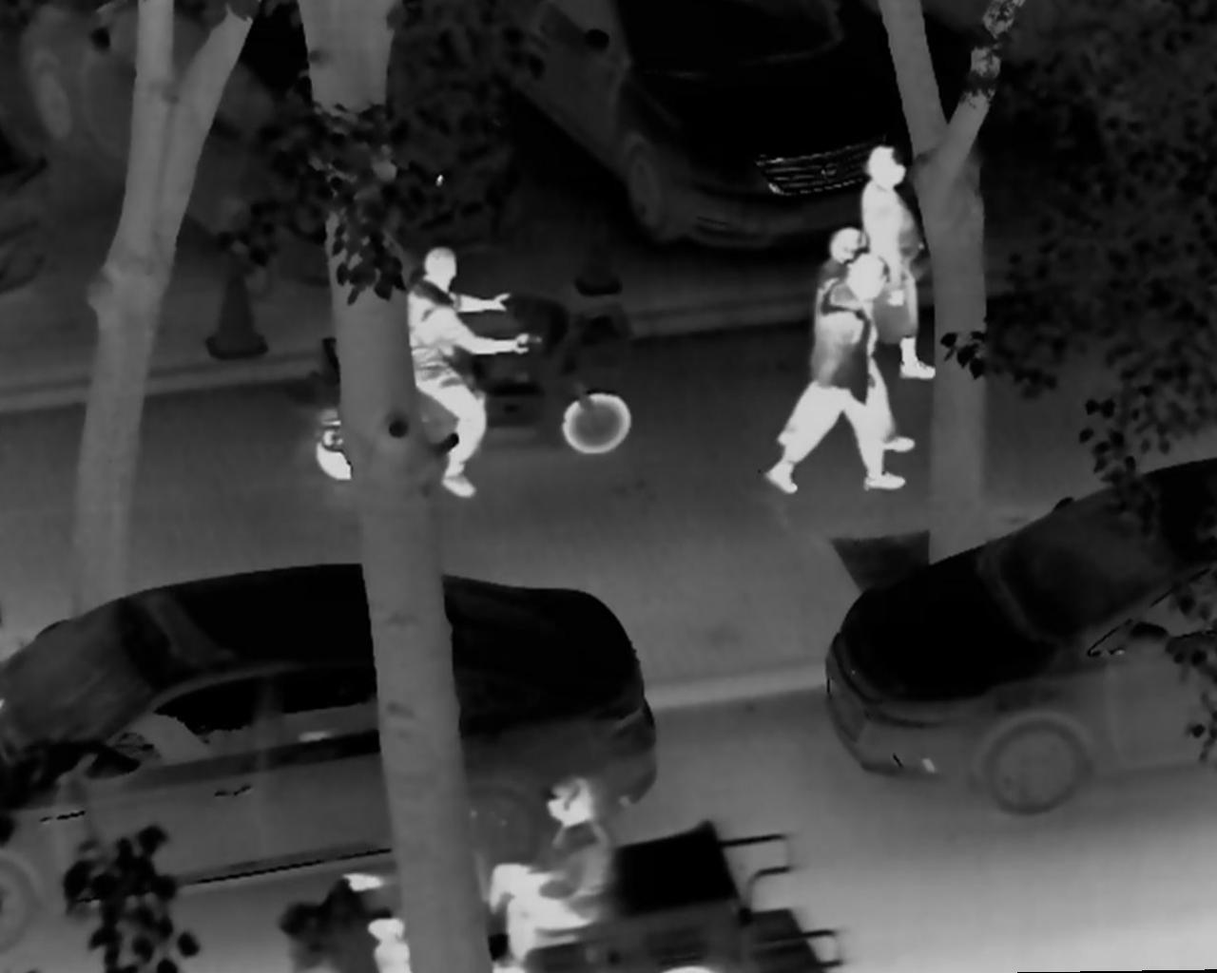person: (399, 247, 539, 506), (770, 224, 917, 460), (763, 253, 906, 495), (464, 772, 618, 973), (843, 141, 941, 383), (347, 826, 420, 973)
